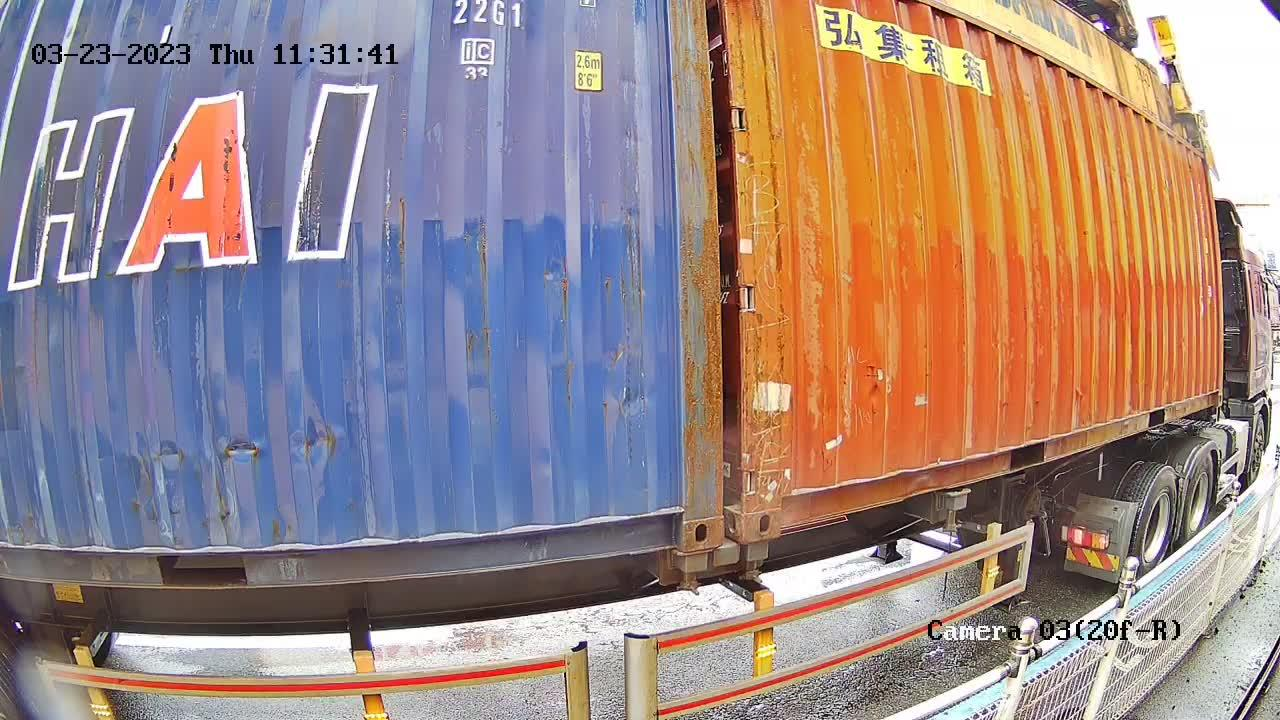Cone: (669, 550, 711, 597), (738, 541, 770, 584)
Hole_L: (743, 470, 805, 545)
Hole_R: (637, 480, 724, 552)
Tire: (1132, 469, 1177, 572), (1181, 452, 1214, 541)
